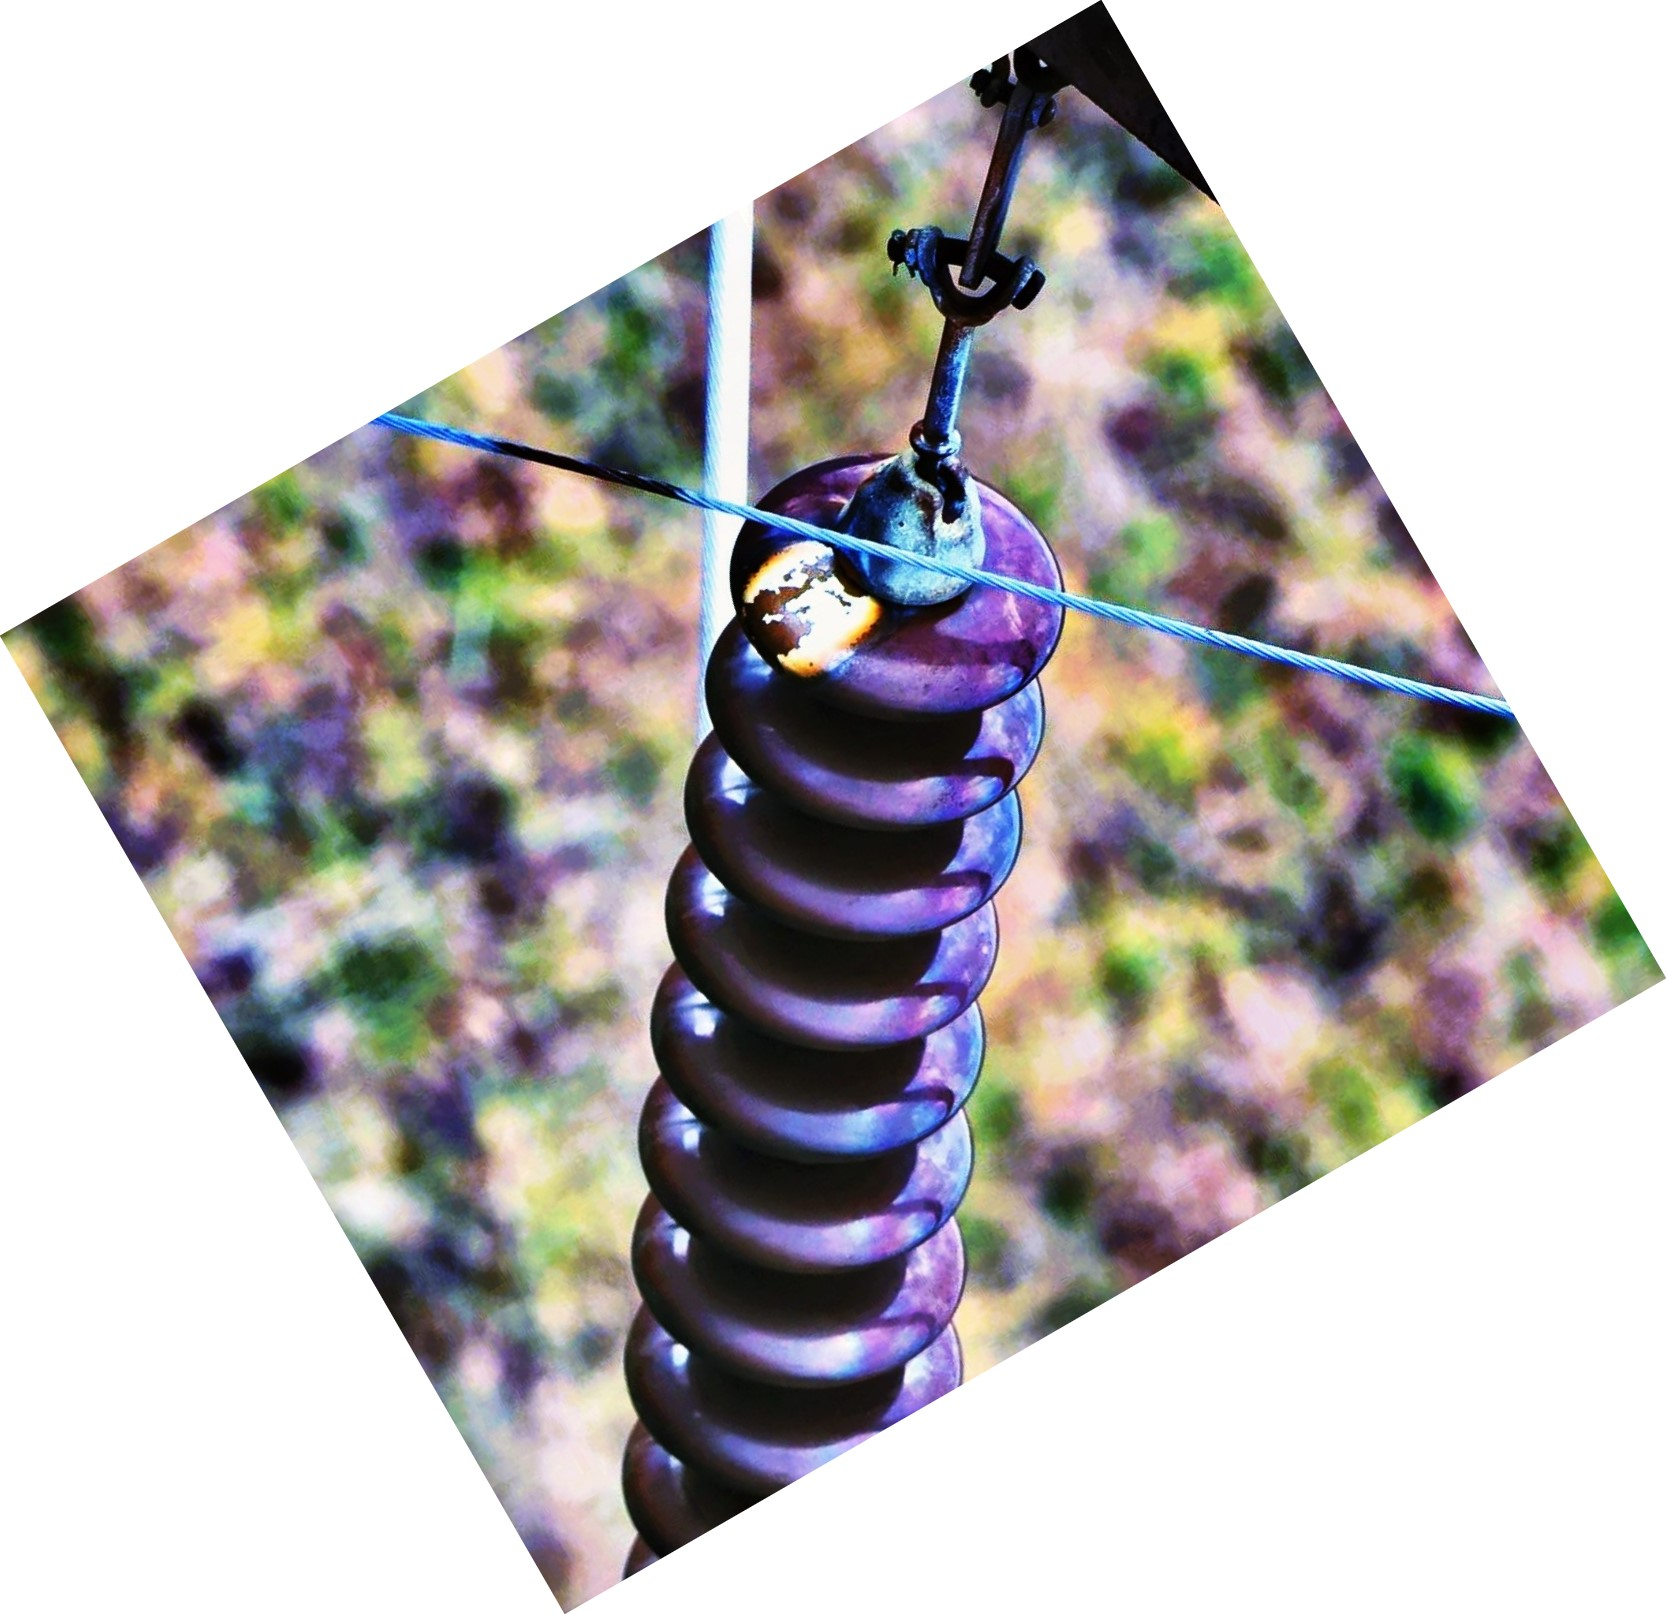Insulator flashover: (699, 446, 1105, 733)
